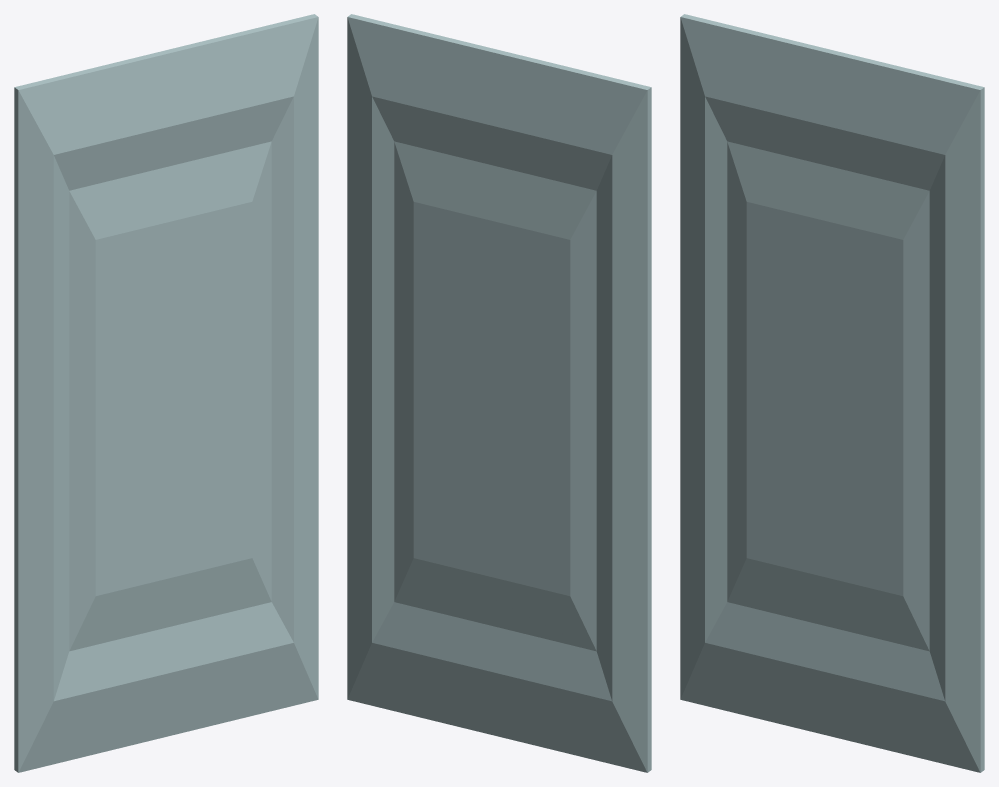
Rendered from Epic Esboo.glb.
The picture shows the model from 3 angles, left to right: view 1: azimuth 30°, elevation 25°; view 2: azimuth 150°, elevation 25°; view 3: azimuth 330°, elevation 25°; orthographic projection.
Parts seen in each view (by area): view 1: Mesh_Mesh_head_geo.001_lambert2SG.001; view 2: Mesh_Mesh_head_geo.001_lambert2SG.001; view 3: Mesh_Mesh_head_geo.001_lambert2SG.001.
Boxes of the visible parts, x1,y1,x2,y2 form: Mesh_Mesh_head_geo.001_lambert2SG.001: (14, 14, 318, 772); Mesh_Mesh_head_geo.001_lambert2SG.001: (347, 14, 651, 772); Mesh_Mesh_head_geo.001_lambert2SG.001: (680, 14, 984, 772).
Bounding box in the file's own units: 34.5 × 75 × 3.
